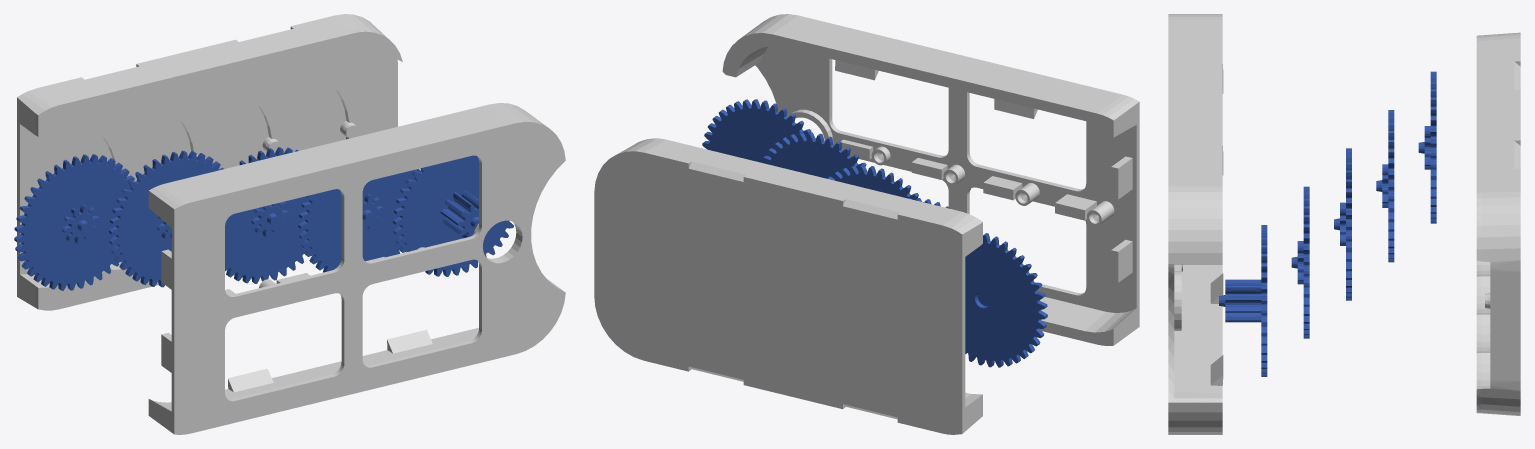
File: exploded.glb
3 renders of one model, left to right at view 1: azimuth 30°, elevation 25°; view 2: azimuth 150°, elevation 25°; view 3: azimuth 270°, elevation 25°, orthographic. The views are drawn at different scales.
Parts seen in each view (by area): view 1: Part_1_1, Part_1, Spur_gear_40_teeth, Spur_gear_40_teeth_4, Spur_gear_40_teeth_1, Spur_gear_40_teeth_2, Spur_gear_40_teeth_3; view 2: Part_1, Part_1_1, Spur_gear_40_teeth, Spur_gear_40_teeth_4, Spur_gear_40_teeth_2, Spur_gear_40_teeth_3; view 3: Part_1_1, Part_1, Spur_gear_40_teeth_4, Spur_gear_40_teeth_1, Spur_gear_40_teeth, Spur_gear_40_teeth_2, Spur_gear_40_teeth_3.
Part boxes in pixels (<box>): Part_1_1: <box>148,103,565,434</box>; Part_1: <box>17,14,402,310</box>; Spur_gear_40_teeth: <box>14,154,134,290</box>; Spur_gear_40_teeth_4: <box>393,155,513,276</box>; Spur_gear_40_teeth_1: <box>109,150,223,287</box>; Spur_gear_40_teeth_2: <box>298,169,419,272</box>; Spur_gear_40_teeth_3: <box>225,147,309,283</box>; Part_1: <box>594,138,982,434</box>; Part_1_1: <box>722,14,1139,345</box>; Spur_gear_40_teeth: <box>965,233,1047,367</box>; Spur_gear_40_teeth_4: <box>702,99,815,163</box>; Spur_gear_40_teeth_2: <box>762,132,866,178</box>; Spur_gear_40_teeth_3: <box>827,165,923,202</box>; Part_1_1: <box>1168,14,1223,434</box>; Part_1: <box>1476,32,1520,415</box>; Spur_gear_40_teeth_4: <box>1219,225,1267,376</box>; Spur_gear_40_teeth_1: <box>1376,110,1394,262</box>; Spur_gear_40_teeth: <box>1418,71,1436,223</box>; Spur_gear_40_teeth_2: <box>1291,186,1309,338</box>; Spur_gear_40_teeth_3: <box>1334,148,1351,300</box>.
Bounding box in the file's own units: 85.29 × 44.4 × 58.3.
